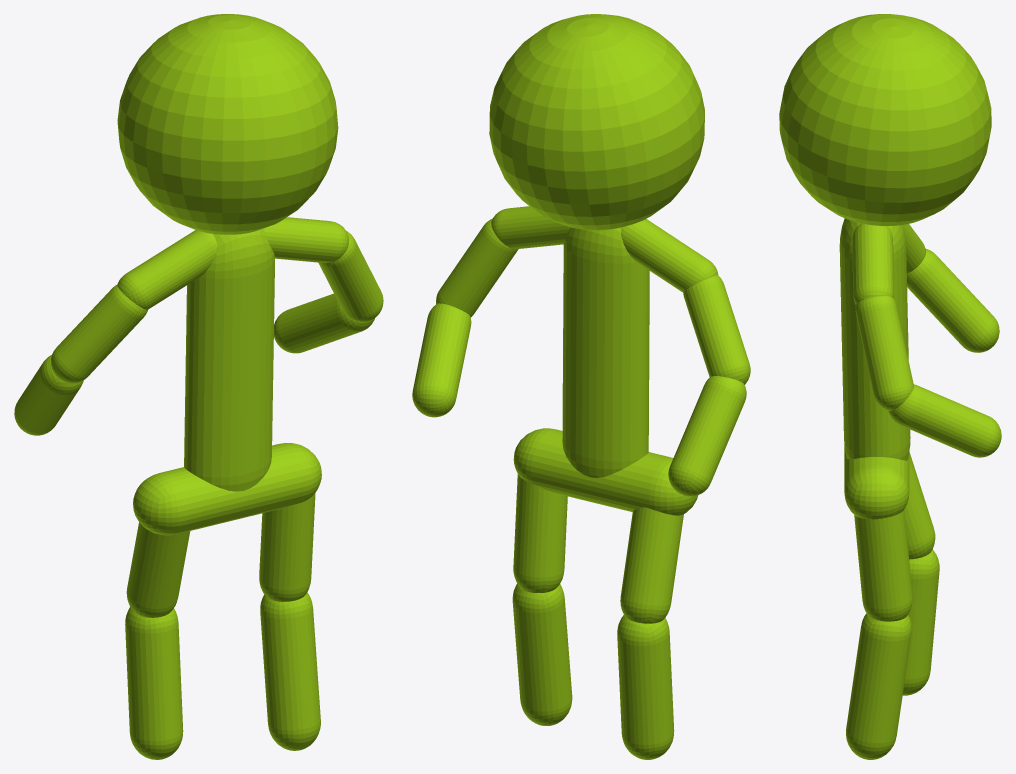
File: Stickman_000024.obj
3 renders of one model, left to right at view 1: azimuth 30°, elevation 25°; view 2: azimuth 150°, elevation 25°; view 3: azimuth 270°, elevation 25°, orthographic. The views are drawn at different scales.
Visible parts, largest first — view 1: Head_Sphere.001, Body_Roundcube.002, Hip_Roundcube.005, LowerLegLeft_Roundcube.013, LowerLegRight_Roundcube.011, UpperLegLeft_Roundcube.012, UpperArmRight_Roundcube.015, UpperLegRight_Roundcube.010, ShoulderRight_Roundcube.014, LowerArmLeft_Roundcube.019, ShoulderLeft_Roundcube.017, UpperArmLeft_Roundcube.018 (+1 smaller); view 2: Head_Sphere.001, Body_Roundcube.002, Hip_Roundcube.005, LowerLegRight_Roundcube.011, LowerLegLeft_Roundcube.013, UpperLegRight_Roundcube.010, LowerArmRight_Roundcube.016, UpperLegLeft_Roundcube.012, LowerArmLeft_Roundcube.019, UpperArmRight_Roundcube.015, ShoulderRight_Roundcube.014, UpperArmLeft_Roundcube.018 (+1 smaller); view 3: Head_Sphere.001, Body_Roundcube.002, LowerLegLeft_Roundcube.013, UpperLegLeft_Roundcube.012, LowerArmRight_Roundcube.016, UpperArmLeft_Roundcube.018, LowerArmLeft_Roundcube.019, Hip_Roundcube.005, LowerLegRight_Roundcube.011, ShoulderLeft_Roundcube.017, UpperLegRight_Roundcube.010, UpperArmRight_Roundcube.015.
Boxes of the visible parts, x1,y1,x2,y2 form: Head_Sphere.001: [117, 14, 338, 234]; Body_Roundcube.002: [184, 228, 274, 491]; Hip_Roundcube.005: [133, 443, 321, 535]; LowerLegLeft_Roundcube.013: [260, 592, 320, 750]; LowerLegRight_Roundcube.011: [125, 607, 183, 759]; UpperLegLeft_Roundcube.012: [259, 493, 315, 601]; UpperArmRight_Roundcube.015: [51, 285, 147, 383]; UpperLegRight_Roundcube.010: [126, 522, 190, 617]; ShoulderRight_Roundcube.014: [117, 230, 217, 309]; LowerArmLeft_Roundcube.019: [274, 293, 374, 353]; ShoulderLeft_Roundcube.017: [263, 217, 348, 263]; UpperArmLeft_Roundcube.018: [318, 231, 383, 322]; Head_Sphere.001: [489, 14, 704, 230]; Body_Roundcube.002: [562, 227, 649, 477]; Hip_Roundcube.005: [513, 428, 697, 515]; LowerLegRight_Roundcube.011: [617, 615, 674, 759]; LowerLegLeft_Roundcube.013: [512, 583, 572, 725]; UpperLegRight_Roundcube.010: [620, 507, 683, 623]; LowerArmRight_Roundcube.016: [668, 376, 746, 496]; UpperLegLeft_Roundcube.012: [513, 474, 567, 593]; LowerArmLeft_Roundcube.019: [412, 303, 471, 417]; UpperArmRight_Roundcube.015: [683, 275, 750, 384]; ShoulderRight_Roundcube.014: [621, 219, 718, 292]; UpperArmLeft_Roundcube.018: [436, 218, 518, 317]; Head_Sphere.001: [779, 14, 991, 225]; Body_Roundcube.002: [839, 218, 910, 460]; LowerLegLeft_Roundcube.013: [846, 613, 911, 759]; UpperLegLeft_Roundcube.012: [854, 509, 912, 621]; LowerArmRight_Roundcube.016: [907, 249, 999, 352]; UpperArmLeft_Roundcube.018: [855, 296, 913, 410]; LowerArmLeft_Roundcube.019: [888, 384, 1001, 457]; Hip_Roundcube.005: [844, 445, 909, 519]; LowerLegRight_Roundcube.011: [902, 549, 939, 695]; ShoulderLeft_Roundcube.017: [852, 223, 893, 304]; UpperLegRight_Roundcube.010: [904, 451, 935, 559]; UpperArmRight_Roundcube.015: [903, 224, 925, 273].
Size of the model in its own units: 5.01 by 10.8 by 3.08.
